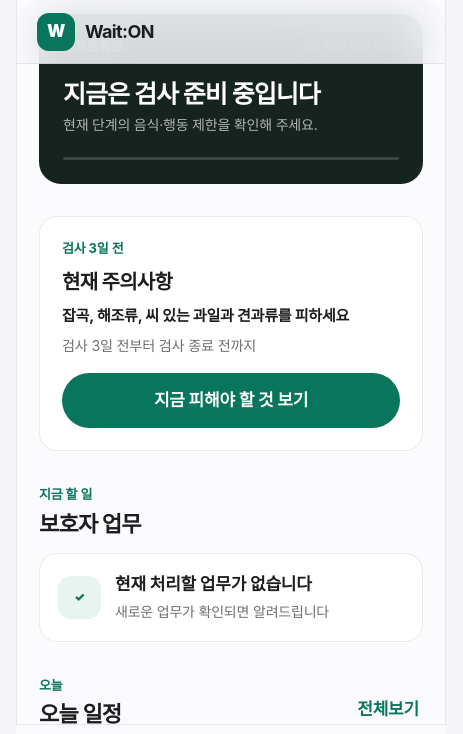
it: CaregiverJourneyApp › 검색 실패 후 입력과 화면을 유지해 같은 행동을 재시도한다
(page scrolled)
Click the button "지금 피해야 할 것 보기": (231,400) 62,373 -> 400,428
(page scrolled)
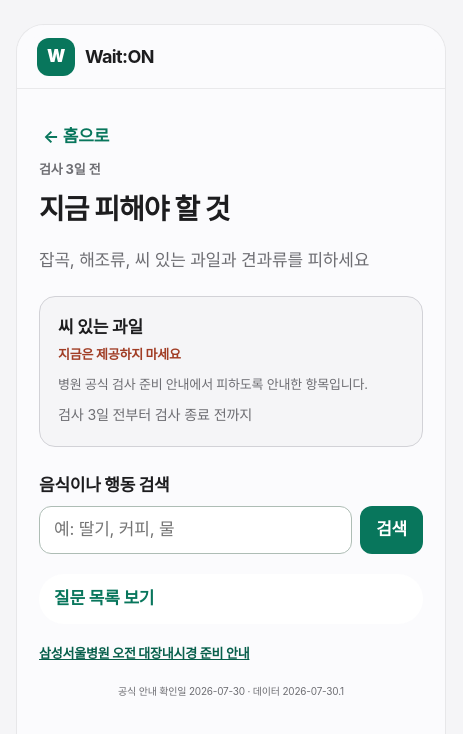
In the search field labelled "음식이나 행동 검색": (196,530) 39,506 -> 352,554, type "커피"
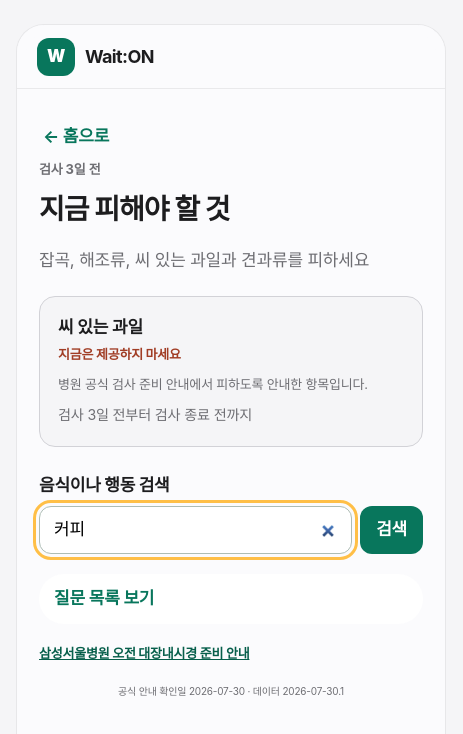
Click the button "검색": (392,530) 360,506 -> 423,554
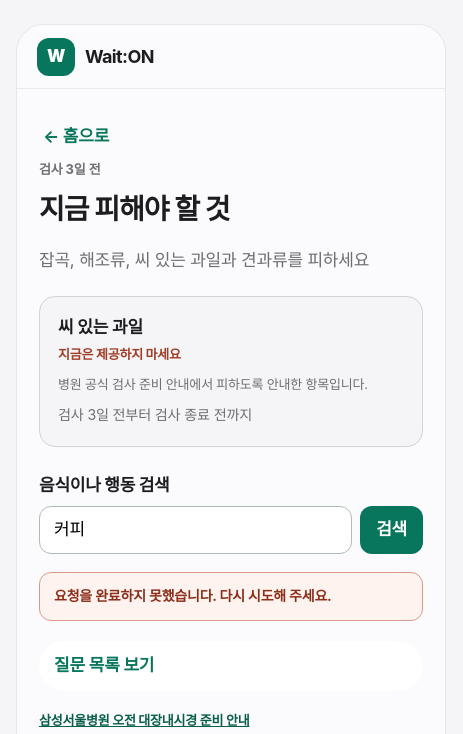
Expected: the message shows "요청을 완료하지 못했습니다", 54,587 -> 332,604
Click the button "검색": (392,530) 360,506 -> 423,554
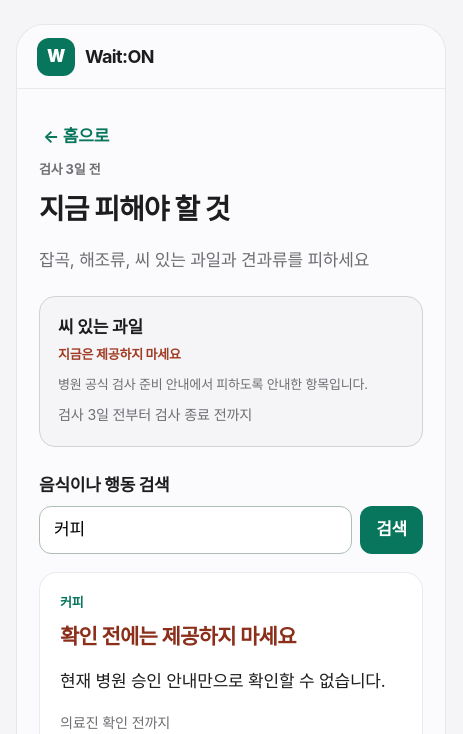
Expected: the heading "확인 전에는 제공하지 마세요" is shown, 60,624 -> 296,649
